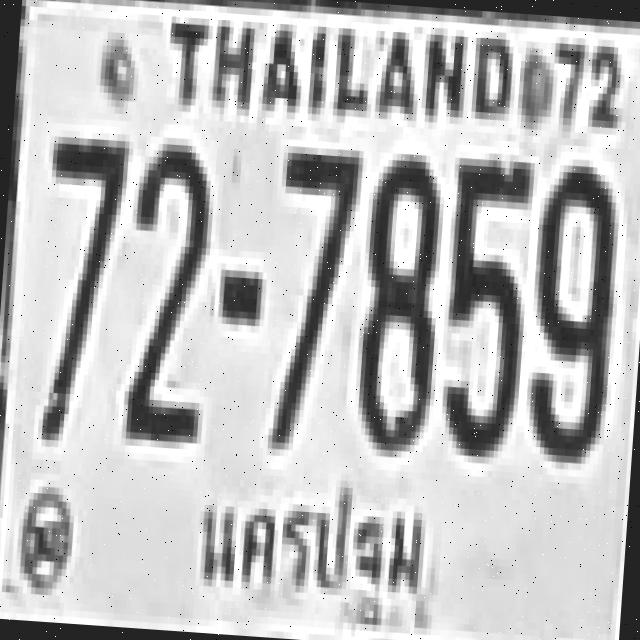2: (117, 135, 213, 443)
5: (434, 150, 530, 452)
7: (30, 129, 126, 437), (264, 142, 359, 443), (36, 128, 126, 342)
8: (351, 148, 443, 449)
9: (522, 156, 618, 458)
NakhonPathom: (183, 469, 434, 630)
